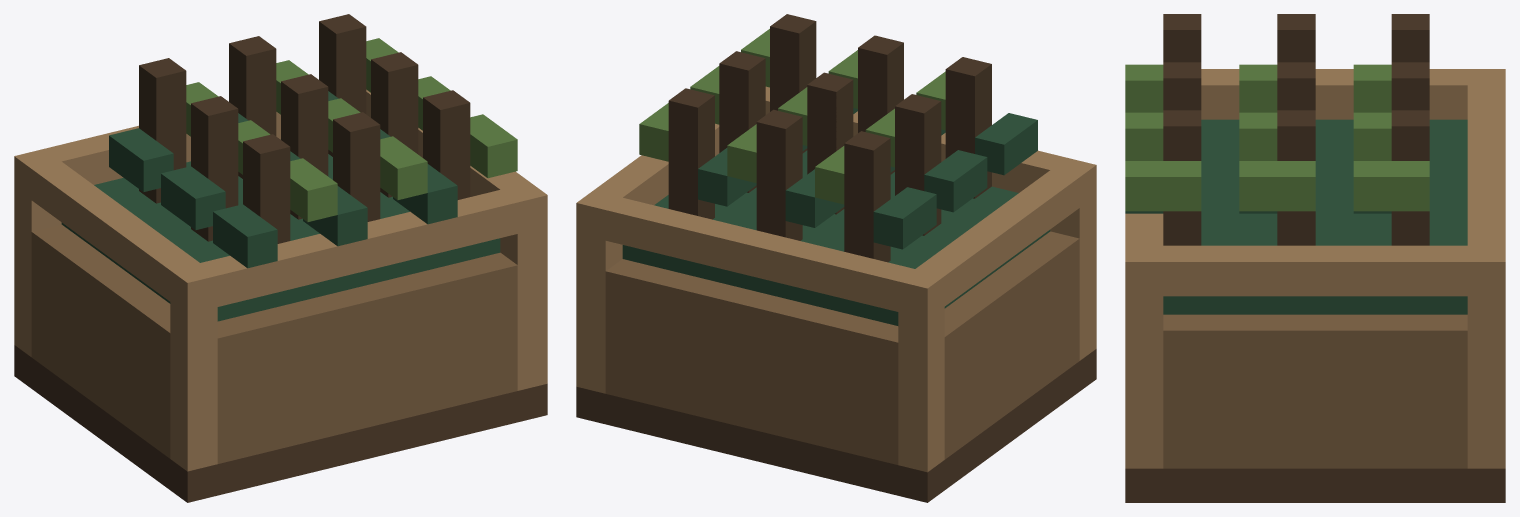
File: strawberry_cutting_full.glb
3 views of the same model, side by side, from view 1: azimuth 30°, elevation 25°; view 2: azimuth 150°, elevation 25°; view 3: azimuth 270°, elevation 25° (orthographic). The views are drawn at different scales.
Visible parts, largest first — view 1: VoxelVisual; view 2: VoxelVisual; view 3: VoxelVisual.
Boxes of the visible parts, x1=… form: VoxelVisual: x1=14, y1=14, x2=547, y2=502; VoxelVisual: x1=576, y1=14, x2=1096, y2=502; VoxelVisual: x1=1125, y1=14, x2=1505, y2=502.
Size of what is drawn, in the model's own units: 0.75 by 0.625 by 0.625.
